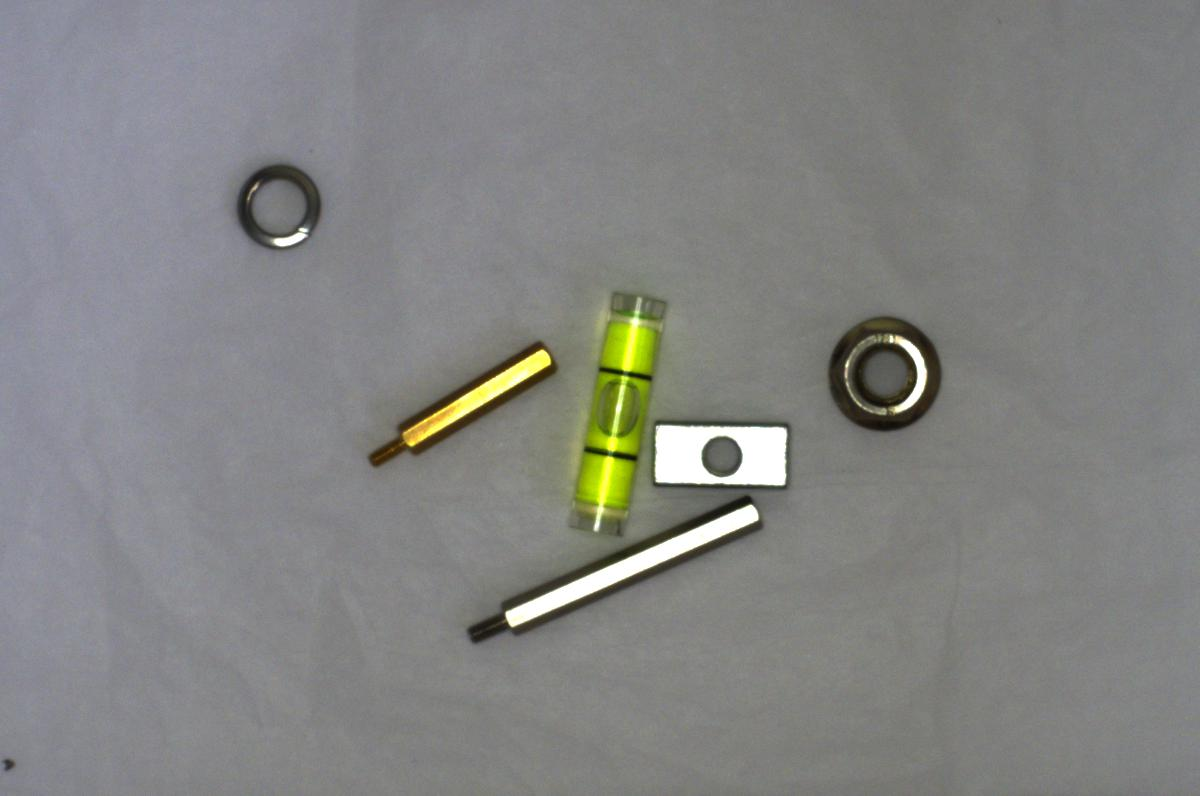Flange nut: (821, 310, 950, 441)
Hexagon pillar: (355, 336, 562, 468)
Hexagonal steel column: (440, 498, 772, 647)
Horizontal bubble: (560, 290, 671, 538)
Rectangular nut: (640, 410, 795, 499)
Spring washer: (221, 156, 328, 254)
